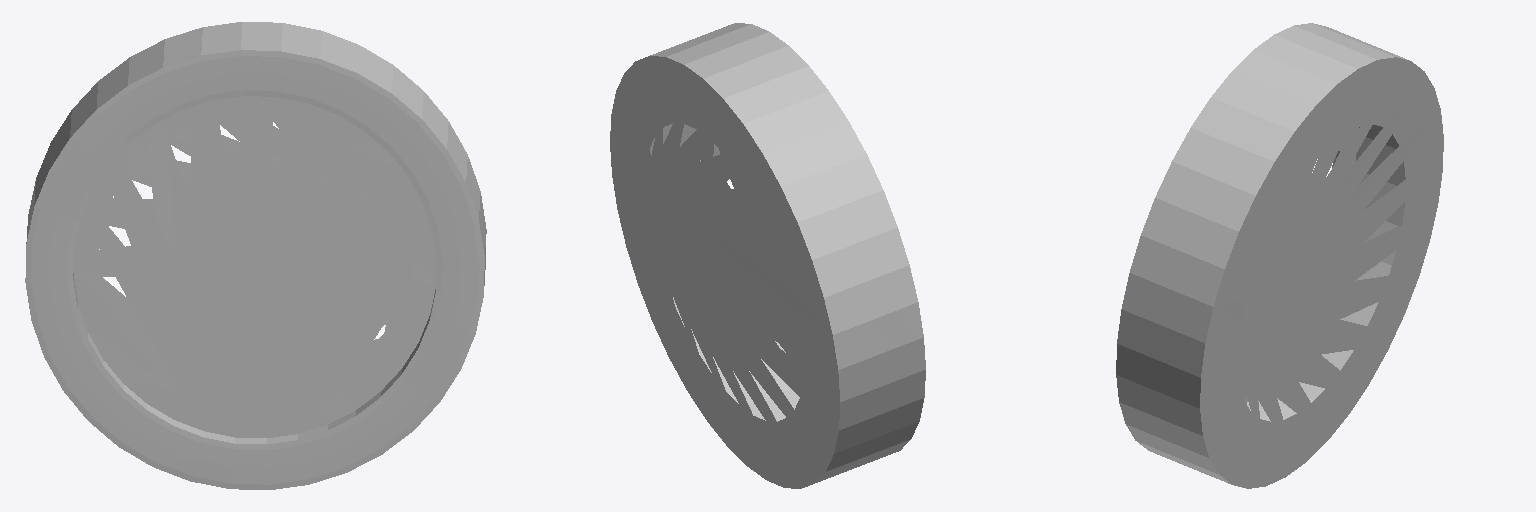
File: SubTool-26-8148327.OBJ
3 renders of one model, left to right at view 1: azimuth 30°, elevation 25°; view 2: azimuth 150°, elevation 25°; view 3: azimuth 270°, elevation 25°, orthographic.
Parts seen in each view (by area): view 1: Group7; view 2: Group7; view 3: Group7.
Boxes of the visible parts, x1=… form: Group7: x1=25, y1=22, x2=486, y2=489; Group7: x1=610, y1=23, x2=925, y2=488; Group7: x1=1116, y1=23, x2=1443, y2=488.
Bounding box in the file's own units: 1.63 × 1.71 × 1.19.